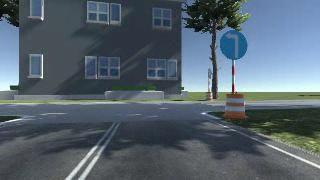turn_left: (219, 31, 248, 60)
